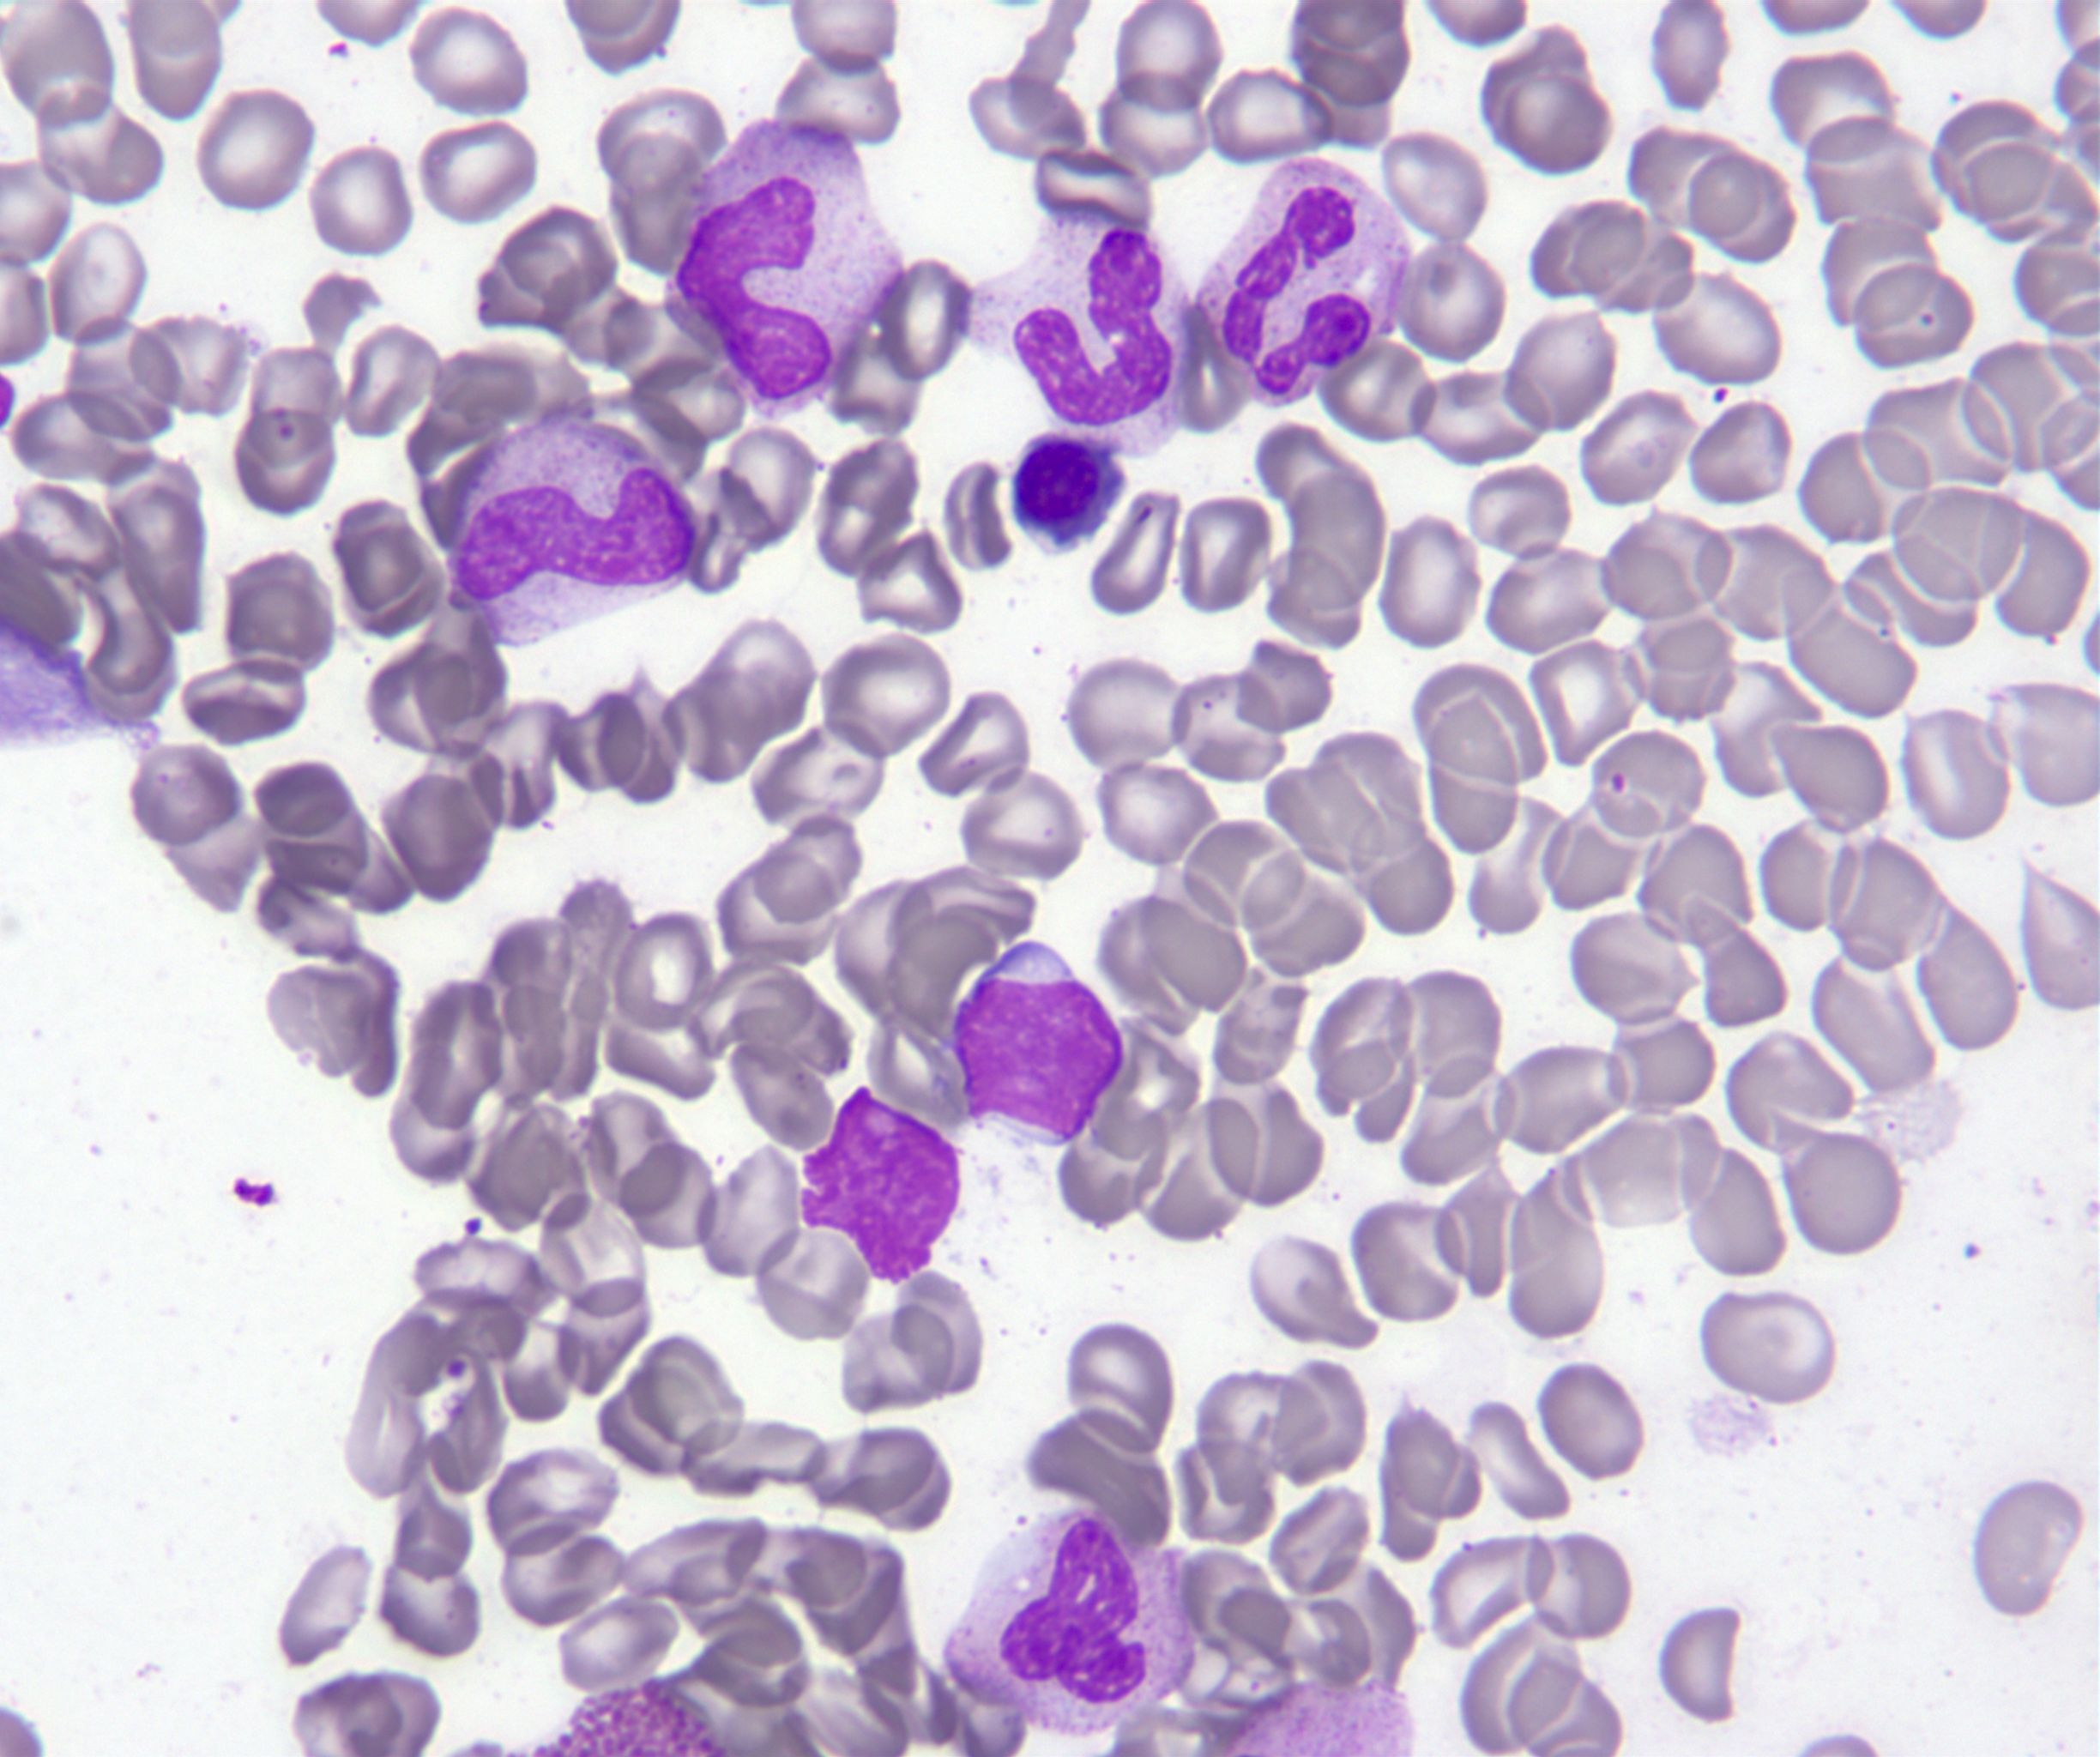24: (1010, 433, 1127, 557)
32: (954, 940, 1125, 1145)
4: (447, 422, 698, 647)
5: (666, 120, 903, 420), (951, 206, 1188, 457)
6: (944, 1502, 1197, 1734), (1198, 157, 1411, 407)
x: (801, 1085, 959, 1284)
